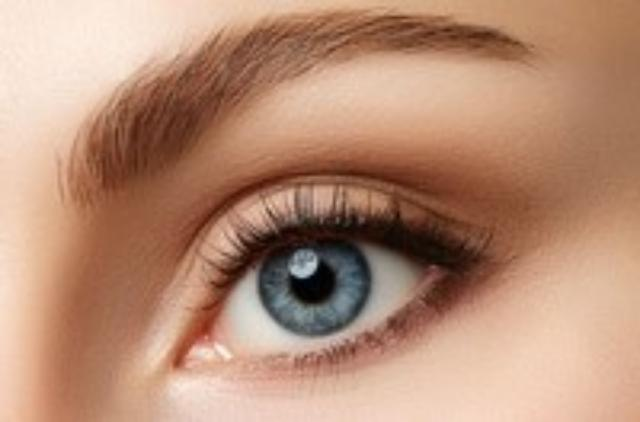eye: (257, 223, 371, 337)
